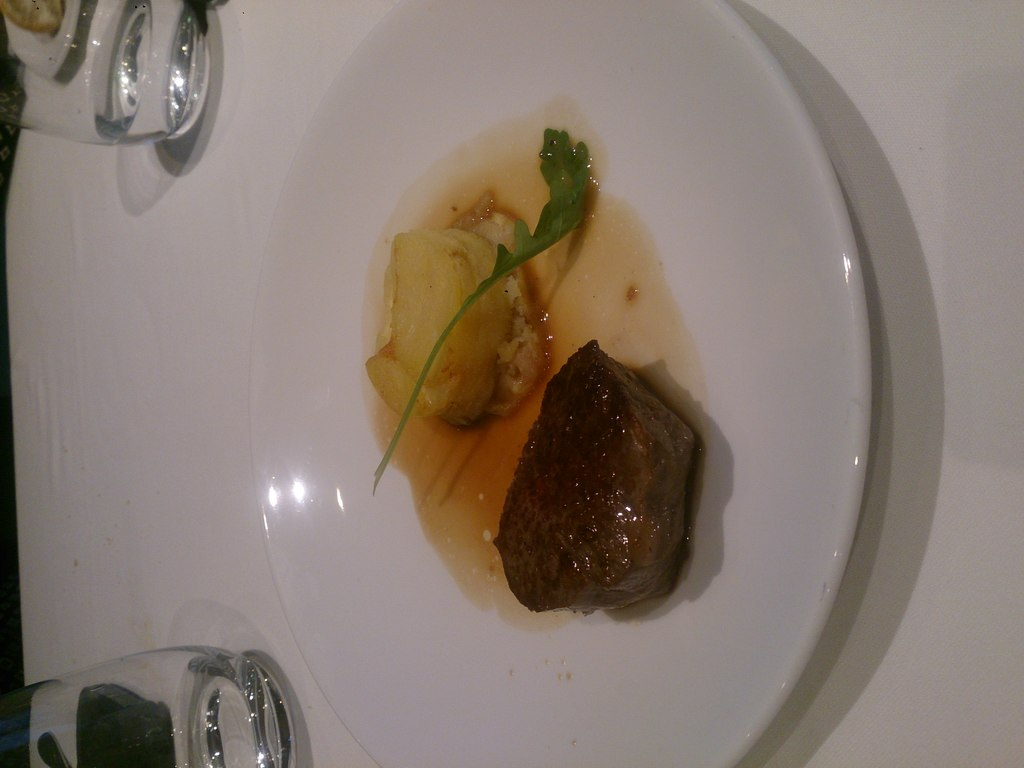plate: (231, 0, 942, 760)
